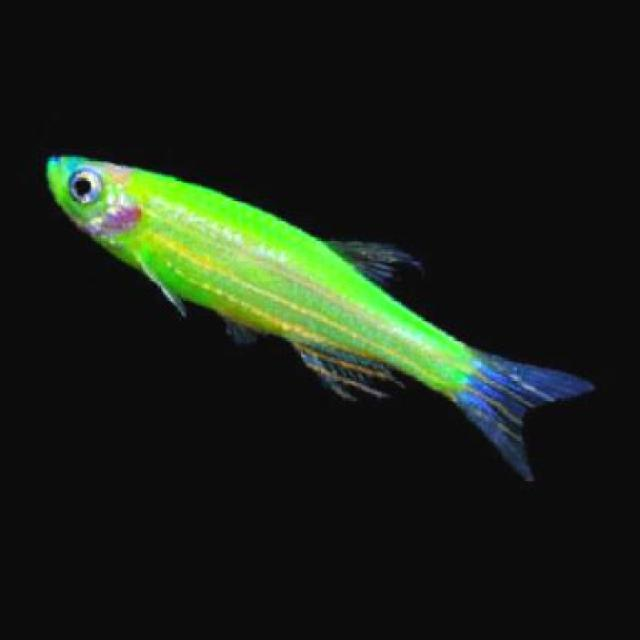ZebraFish: (41, 152, 593, 472)
